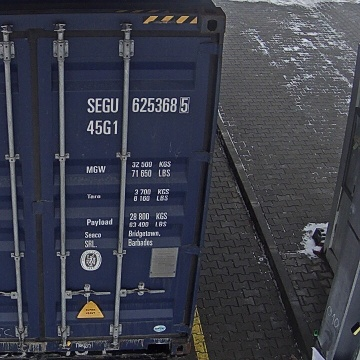serial_id: (87, 97, 188, 113)
